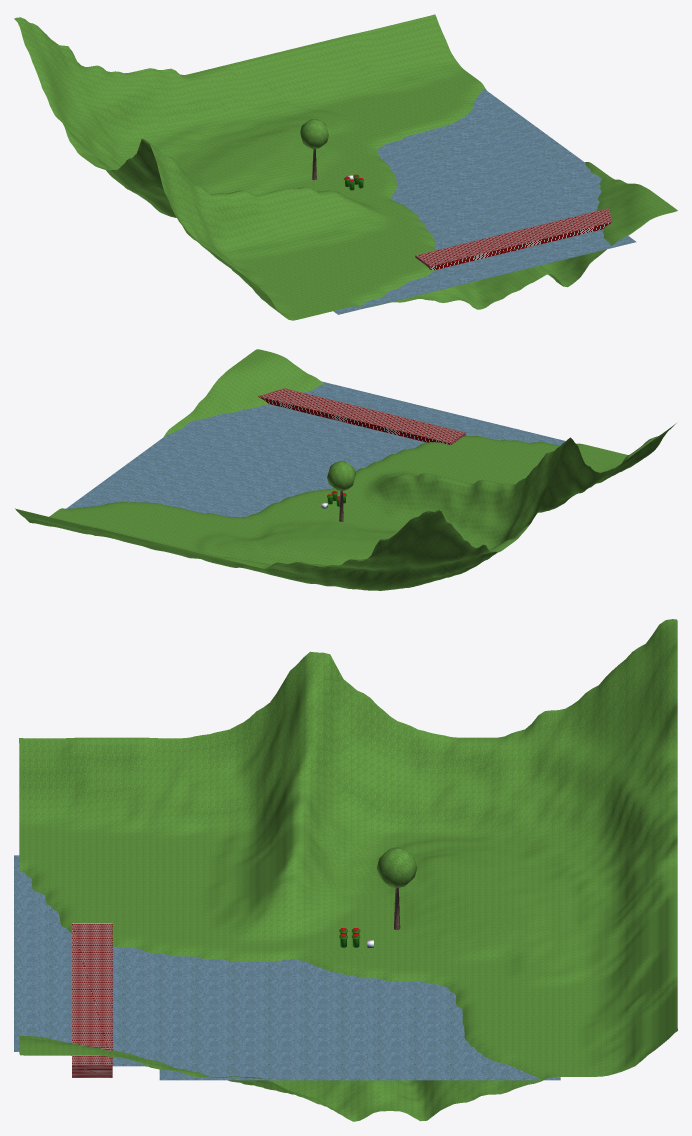
The picture shows the model from 3 angles, top to bottom: view 1: azimuth 30°, elevation 25°; view 2: azimuth 150°, elevation 25°; view 3: azimuth 270°, elevation 25°; orthographic projection. The views are drawn at different scales.
Parts seen in each view (by area): view 1: Terrain, Plane, Block_006, Cube; view 2: Terrain, Plane, Block_006, Cube; view 3: Terrain, Plane, Block_006, Cube.
Boxes of the visible parts, x1,y1,x2,y2 form: Terrain: (14,14,677,320); Plane: (333,89,635,314); Block_006: (415,208,612,270); Cube: (300,119,328,180); Terrain: (15,349,676,590); Plane: (66,381,576,517); Block_006: (257,388,465,445); Cube: (327,461,355,521); Terrain: (19,619,677,1121); Plane: (14,855,560,1080); Block_006: (72,923,112,1077); Cube: (376,847,417,929).
Bounding box in the file's own units: 198 × 200 × 75.15.
Materials: 9 (6 with a texture image).
